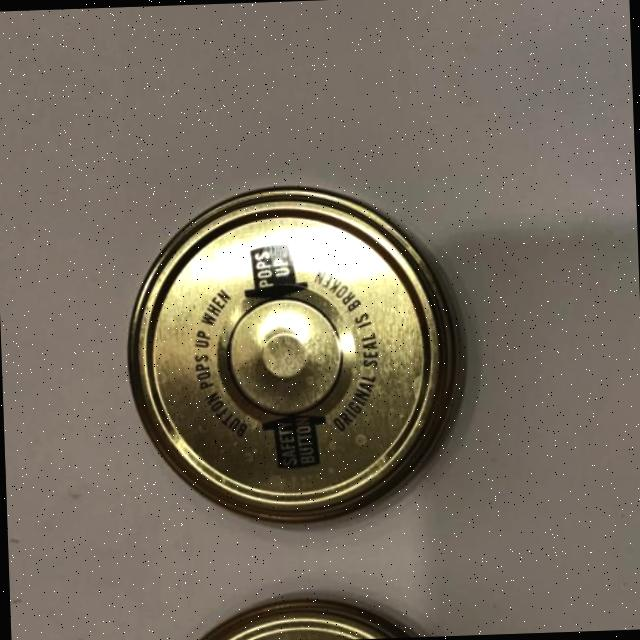Metal: (110, 159, 472, 515), (125, 607, 476, 640)
